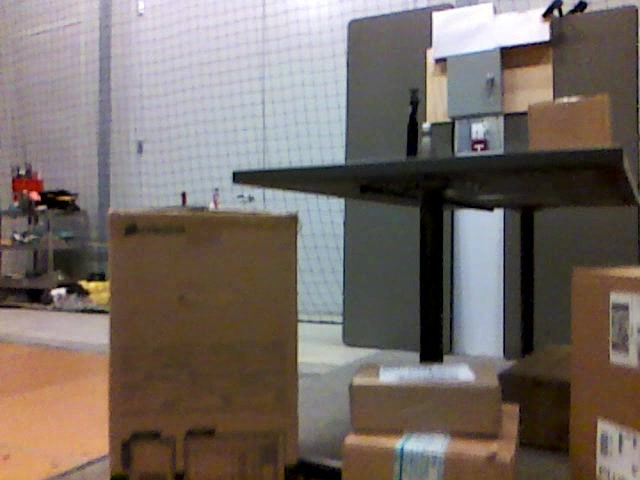box: (108, 209, 299, 480), (570, 264, 640, 480), (348, 406, 522, 477), (349, 361, 502, 433), (501, 346, 572, 457), (528, 98, 610, 148)
